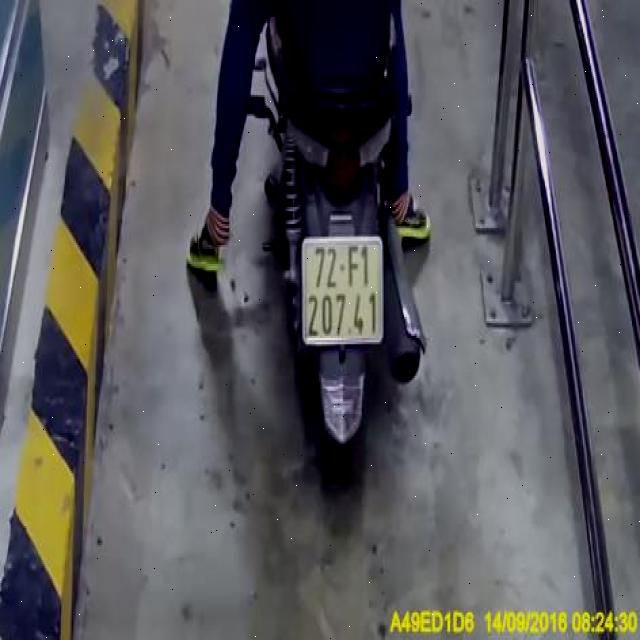0: (307, 293, 320, 337), (321, 293, 334, 337)
1: (368, 289, 378, 338), (360, 243, 370, 284)
2: (326, 245, 337, 289)
4: (354, 292, 364, 336)
7: (334, 292, 345, 342), (313, 246, 325, 289)
F: (348, 244, 358, 289)
